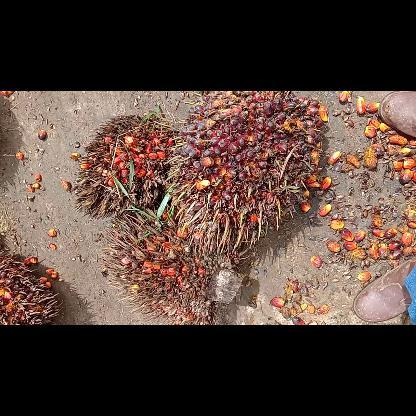TBS masak: (164, 92, 326, 258)
Terlalu masak: (96, 210, 245, 324), (70, 112, 180, 220)
